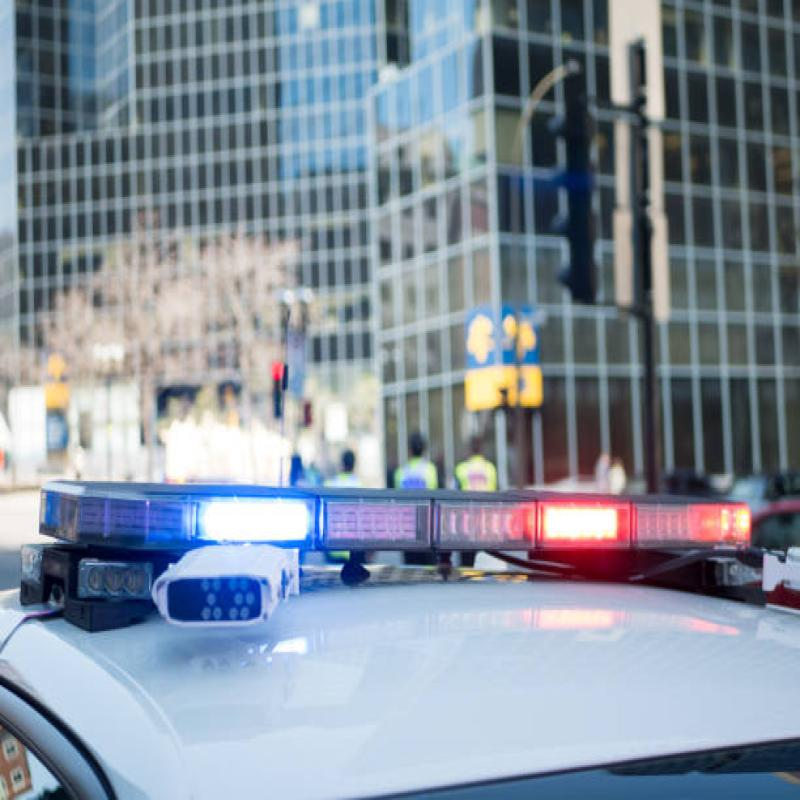AmbulanceSiren: (67, 446, 767, 598)
